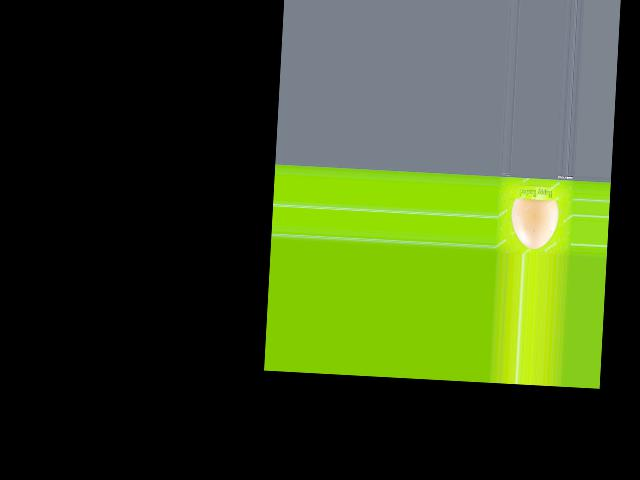egg: (509, 198, 558, 250)
